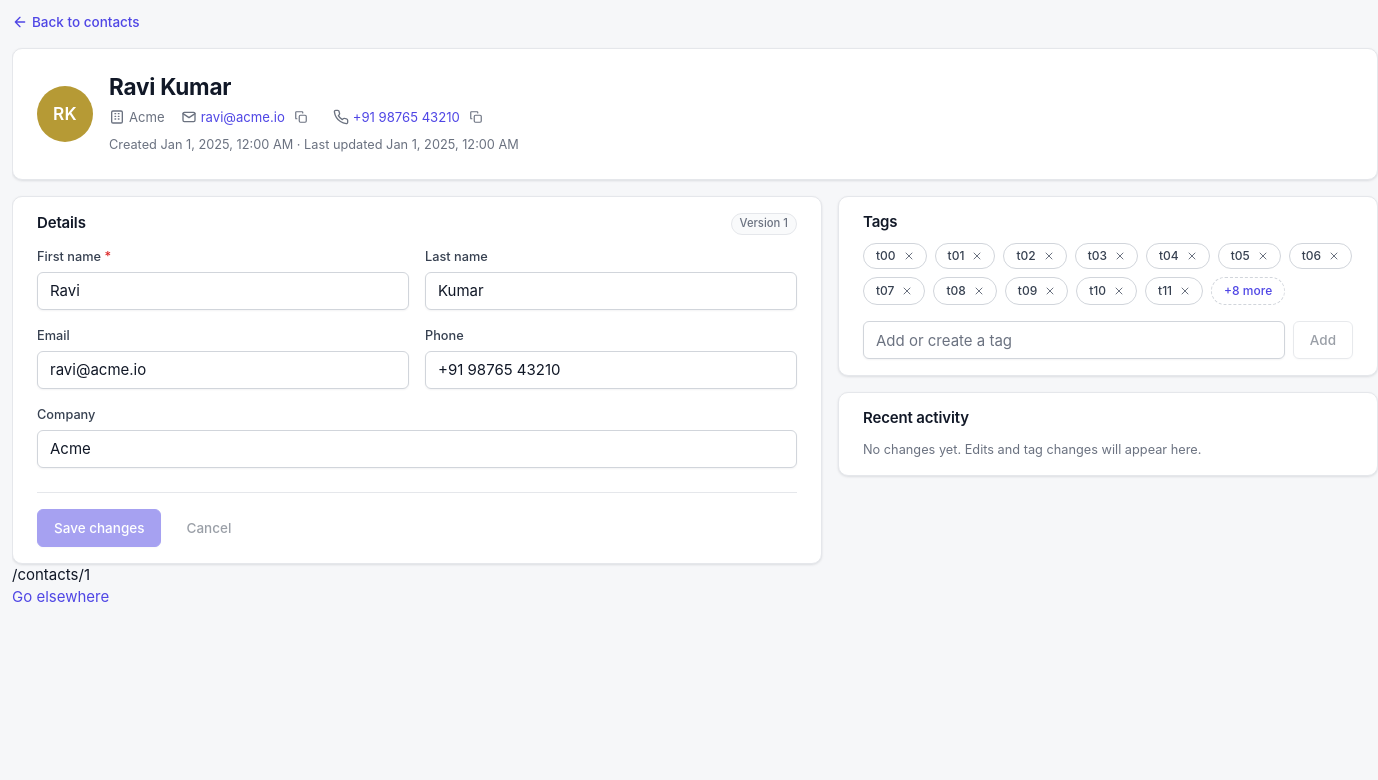
Test: TagEditor: long tag lists › shows the first 12 tags with "+N more", and expands / collapses
This screenshot has width=1378, height=780.
Expected: the heading "Ravi Kumar" is shown, left=109, top=73, right=231, bottom=100
Click the button "+8 more" at {"x": 1248, "y": 291}, box left=1211, top=277, right=1285, bottom=305
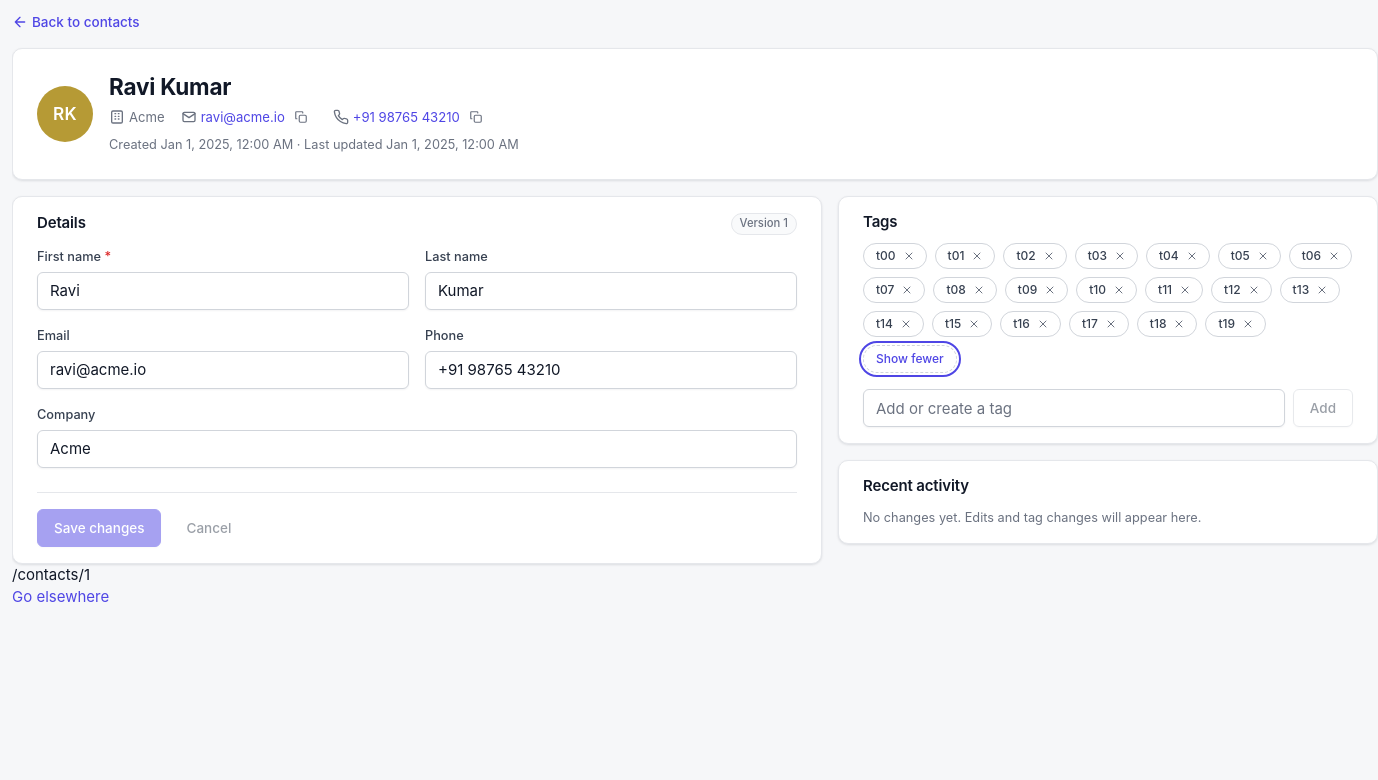
Expected: the number of buttons named "Remove tag" is 20
Click the button "Show fewer" at {"x": 910, "y": 359}, box left=863, top=345, right=957, bottom=373
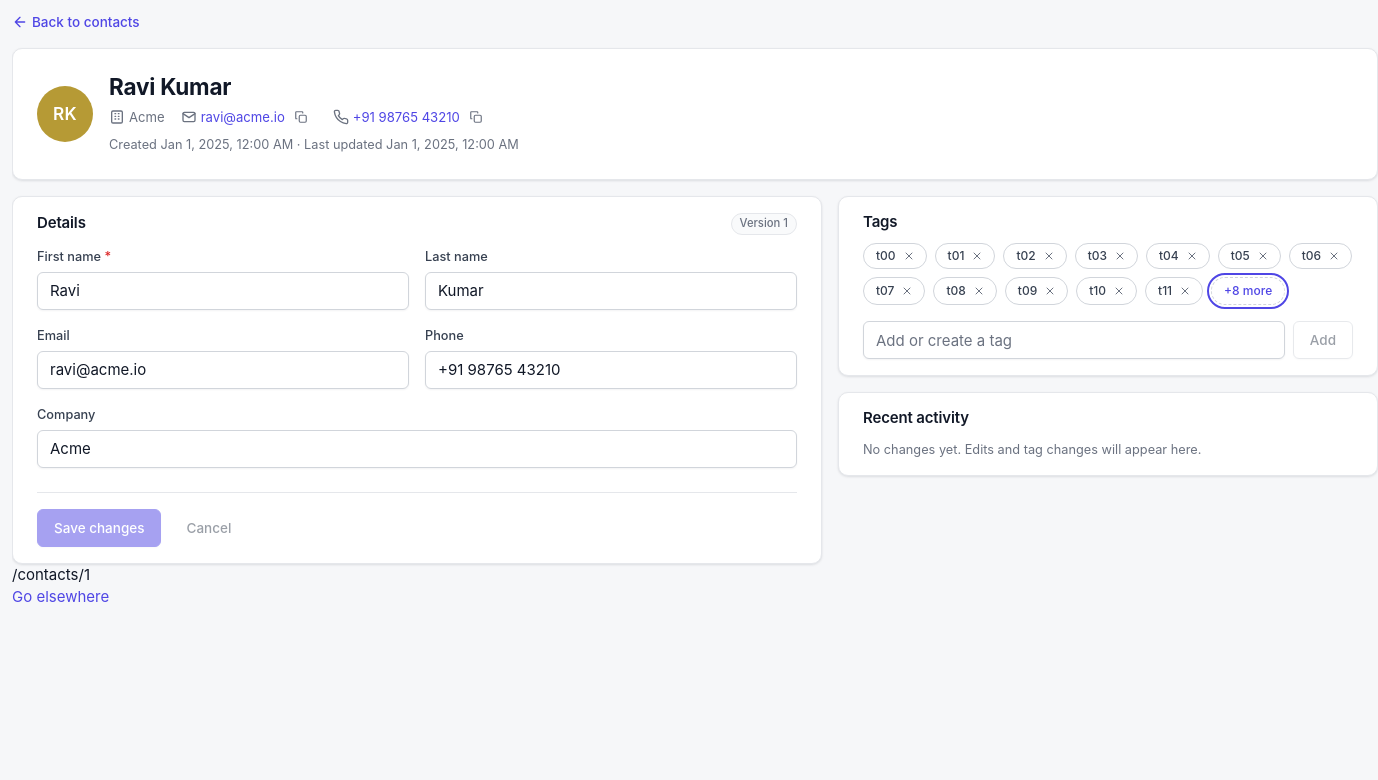
Expected: the number of buttons named "Remove tag" is 12
